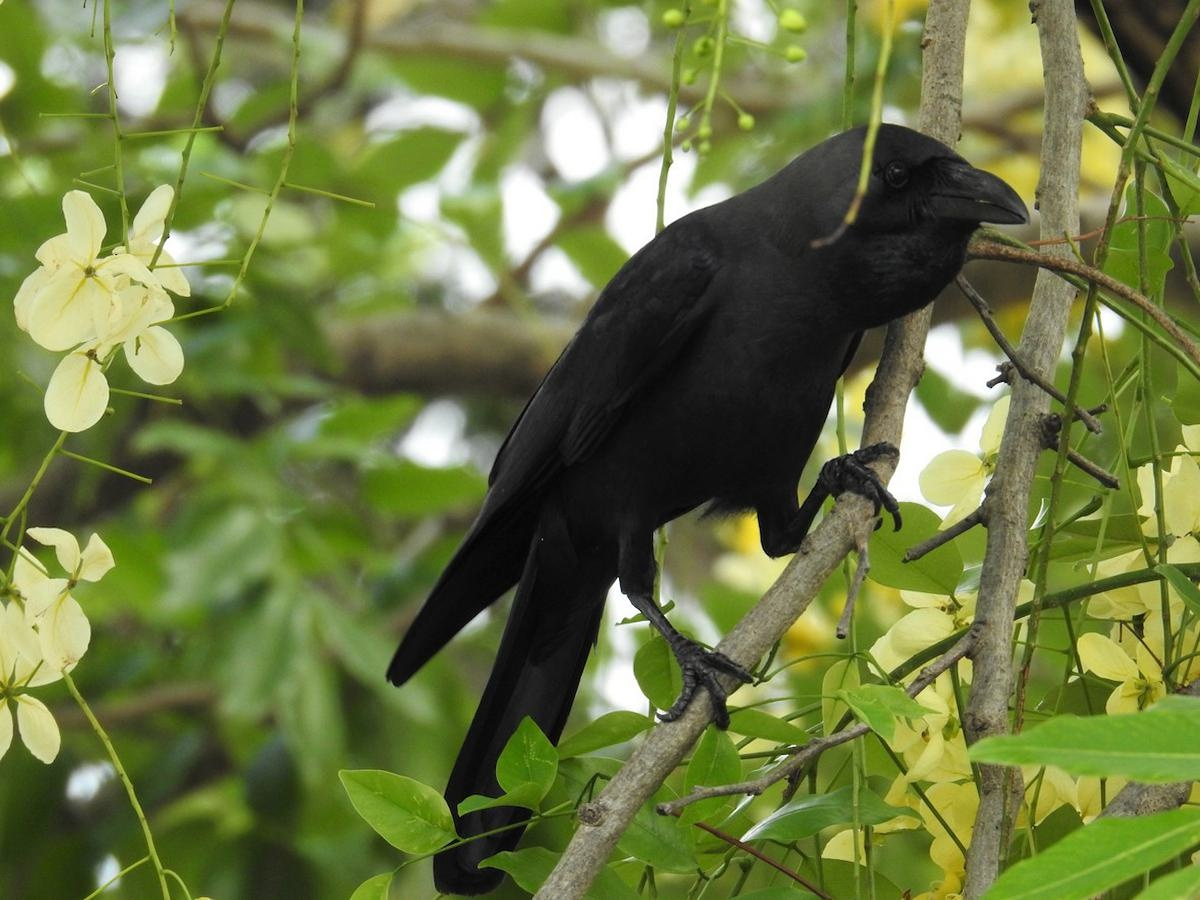crow: (355, 100, 1048, 823)
